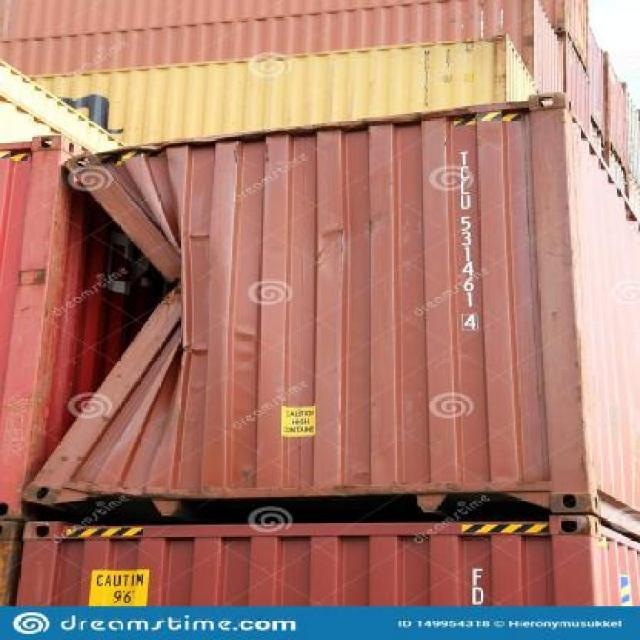Deframe: (19, 135, 186, 505)
